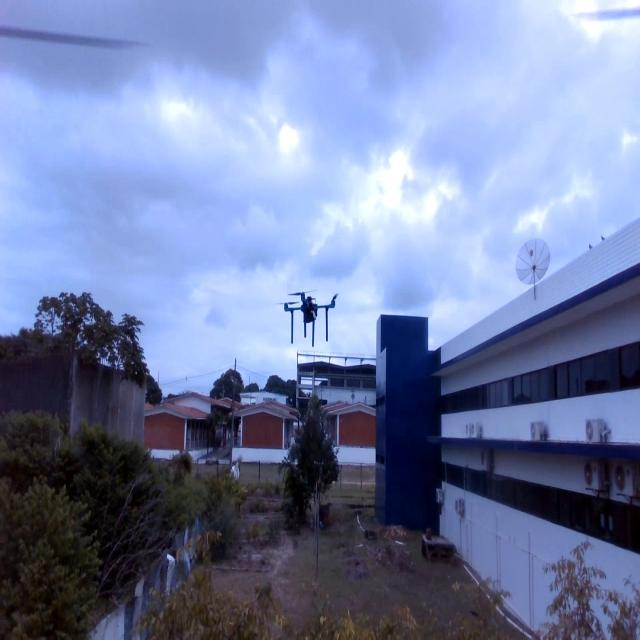-uav-: (270, 277, 344, 354)
